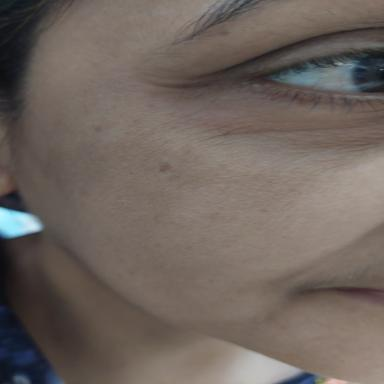normal skin: (8, 0, 383, 384)
